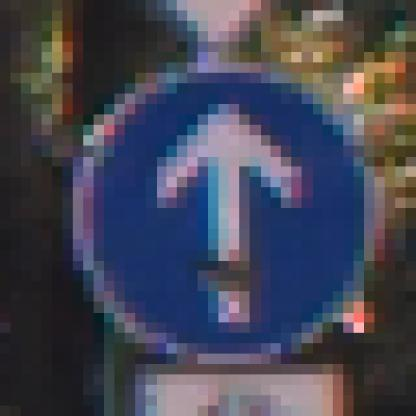AheadOnly: (63, 53, 365, 365)
